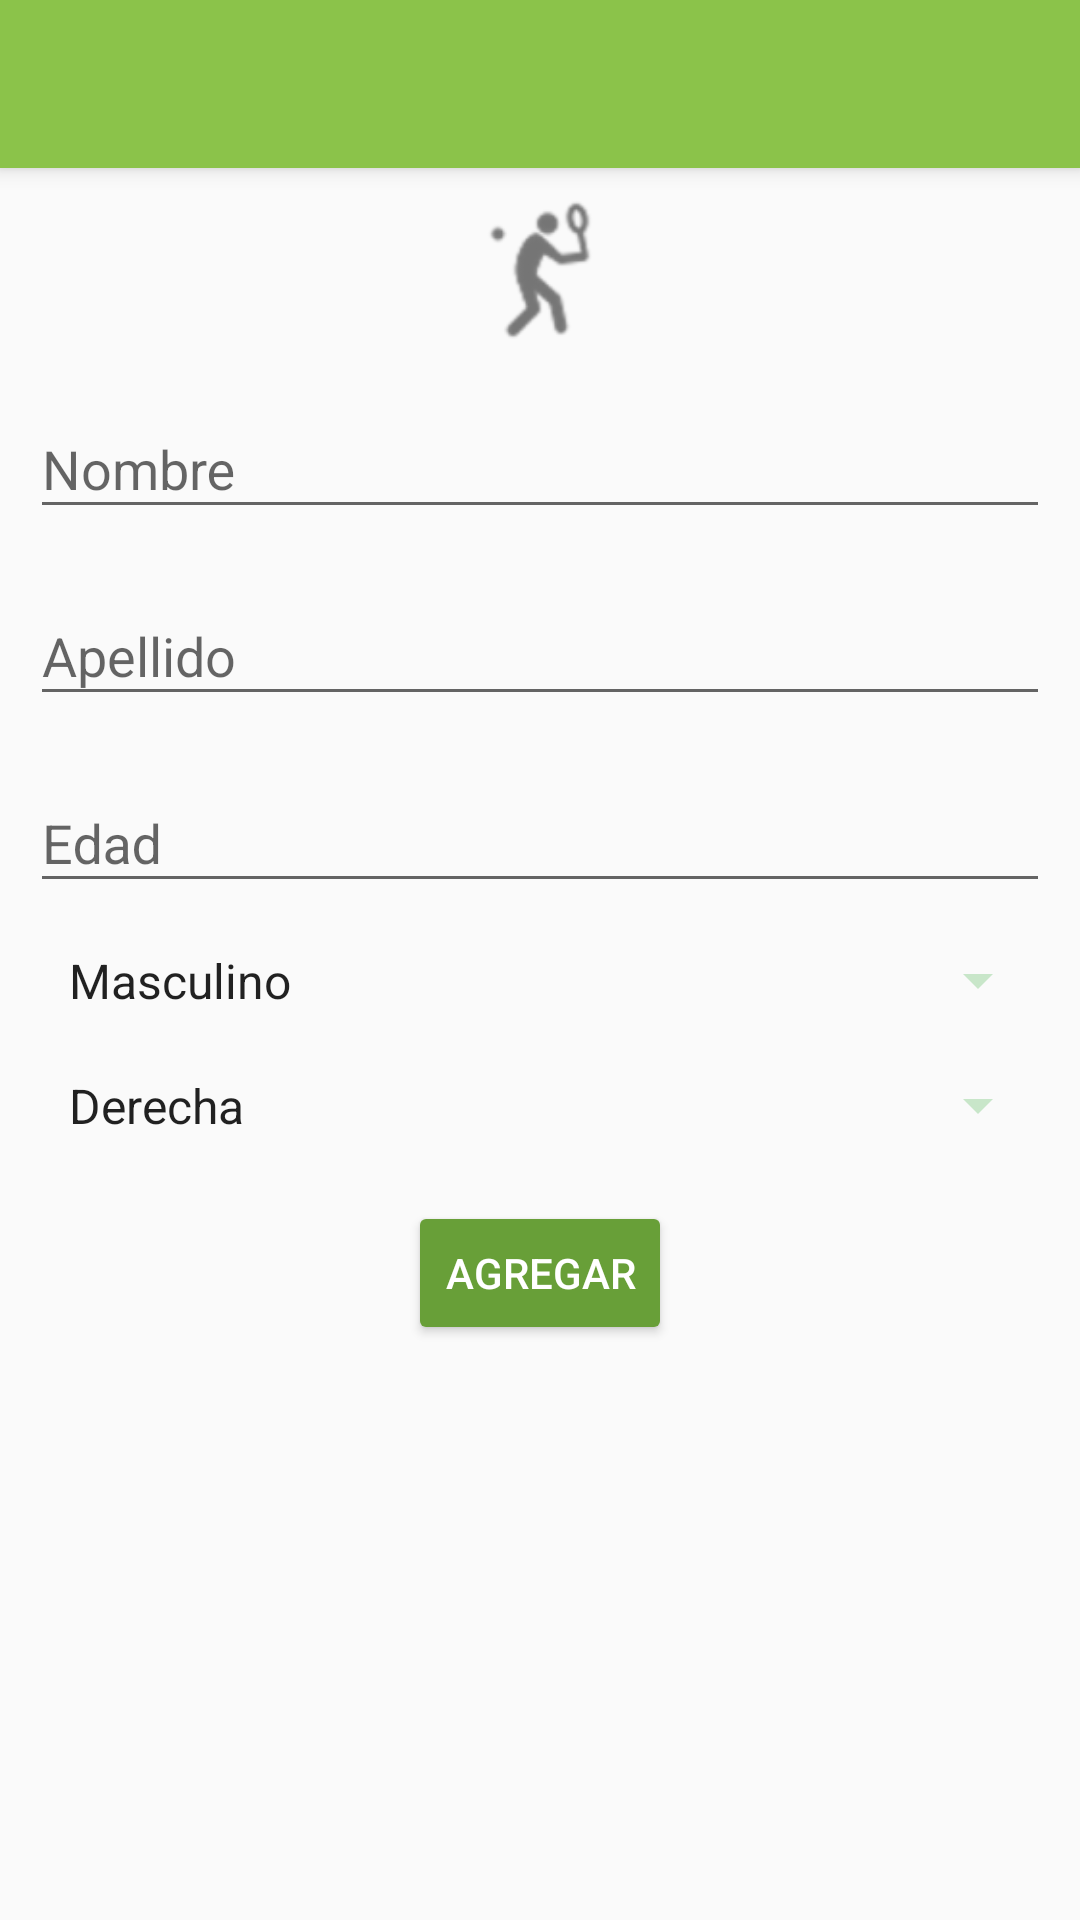

Where to tap for icons on this 1080px x 1920px app screen, as point (x, y):
tennis player: point (540, 270)
